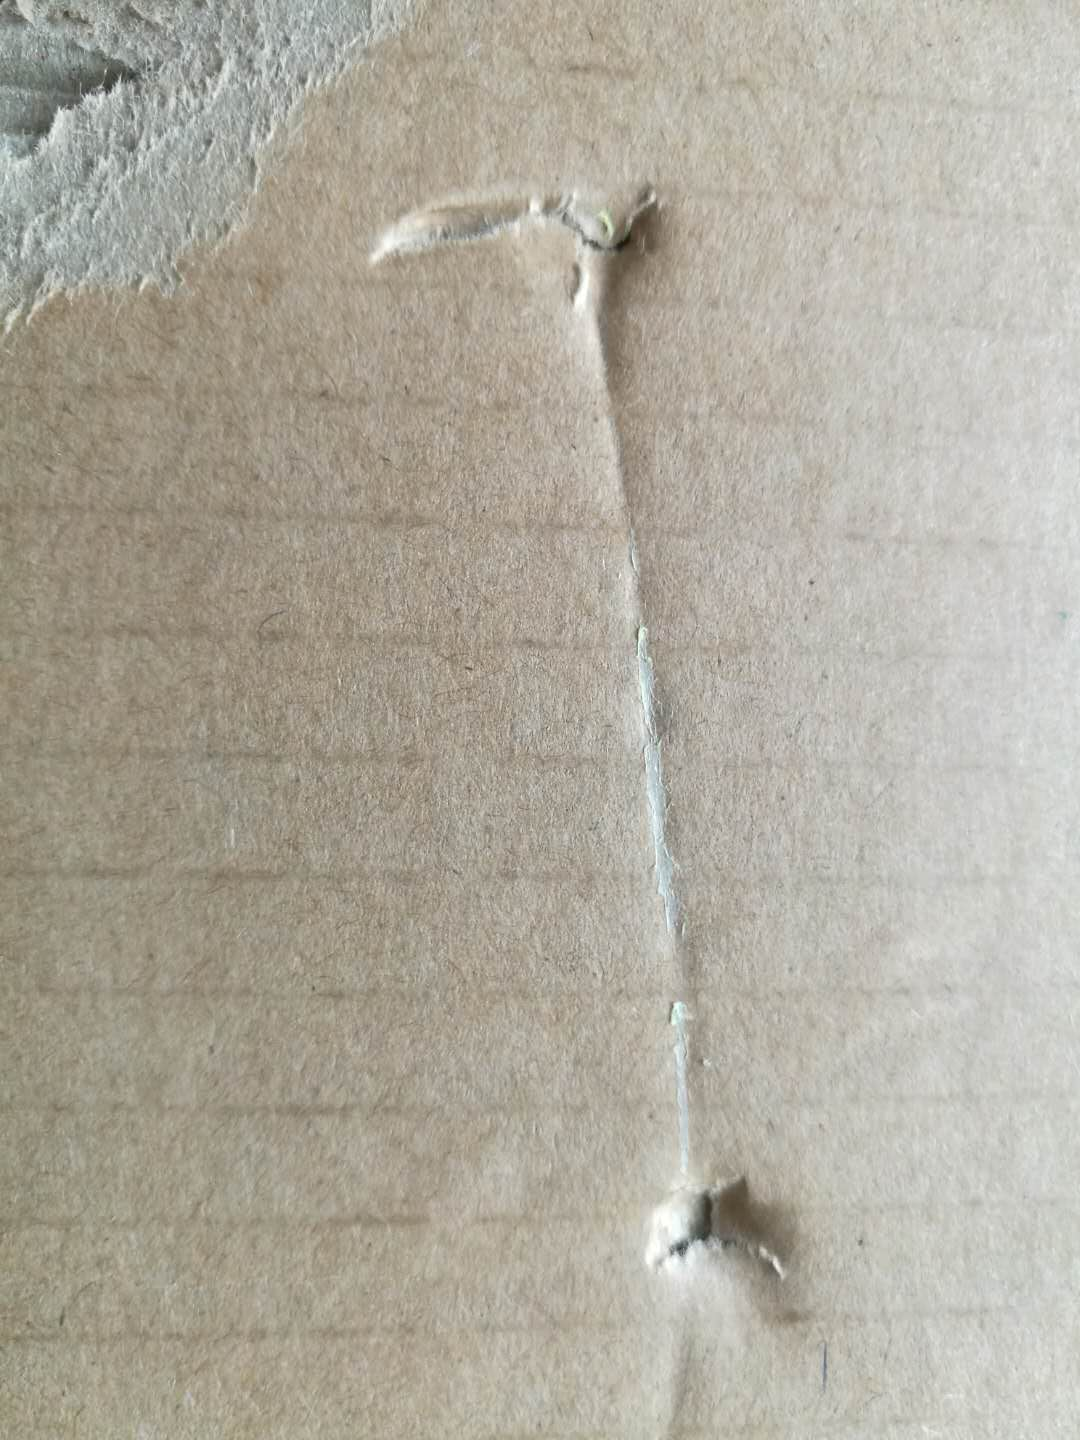defect: (352, 153, 881, 1440), (2, 2, 469, 361)
